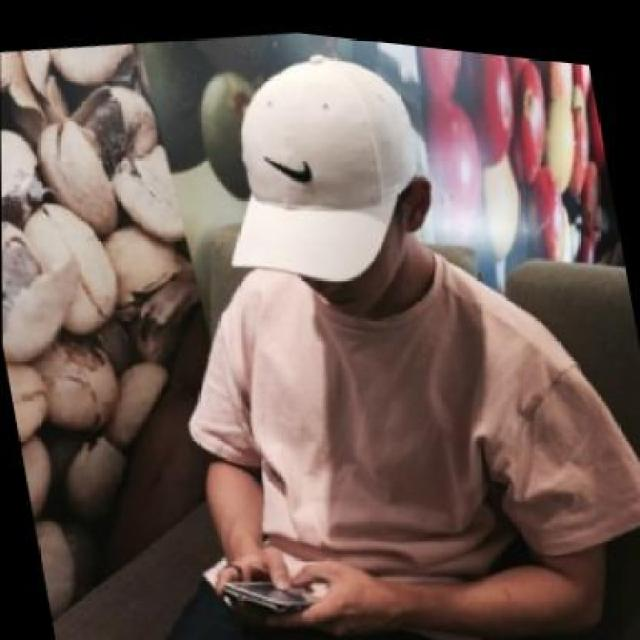hat: (191, 16, 451, 302)
